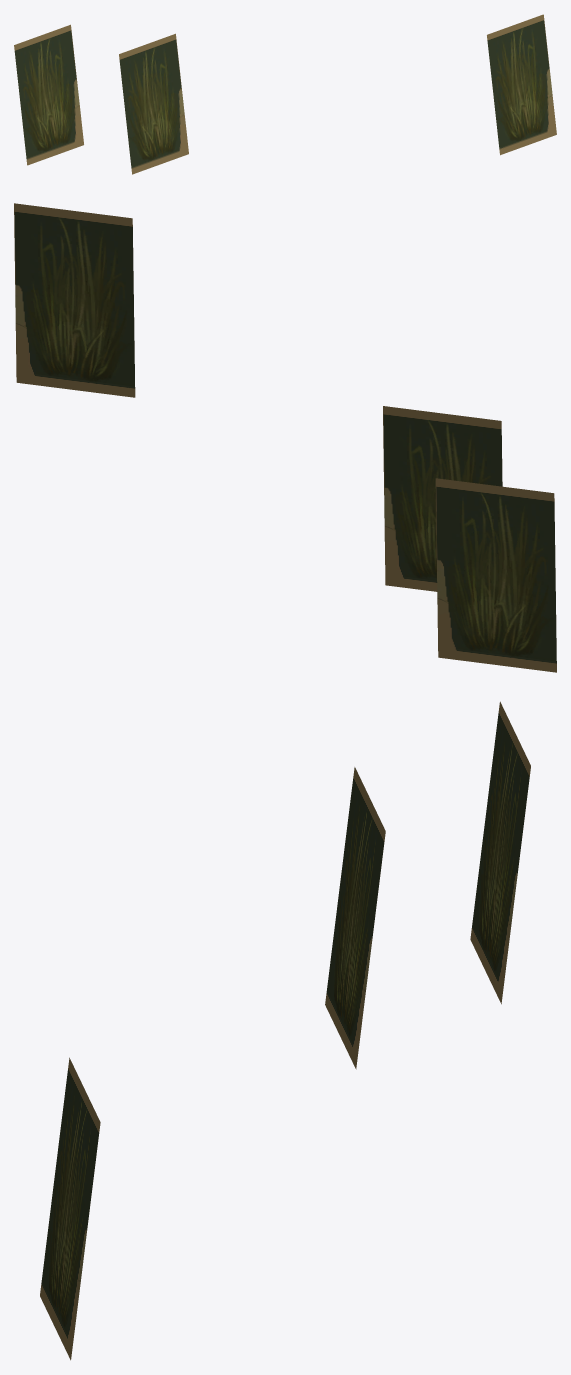
Rendered from object_grass_polys02.fbx.
The picture shows the model from 3 angles, top to bottom: view 1: azimuth 30°, elevation 25°; view 2: azimuth 150°, elevation 25°; view 3: azimuth 270°, elevation 25°; orthographic projection. The views are drawn at different scales.
Parts seen in each view (by area): view 1: obj0.059; view 2: obj0.059; view 3: obj0.059.
Part boxes in pixels (bbox=[...]): obj0.059: bbox=[14, 14, 556, 174]; obj0.059: bbox=[14, 203, 556, 672]; obj0.059: bbox=[40, 701, 530, 1360].
Size of the model in its own units: 8.71 by 2.26 by 4.25.
